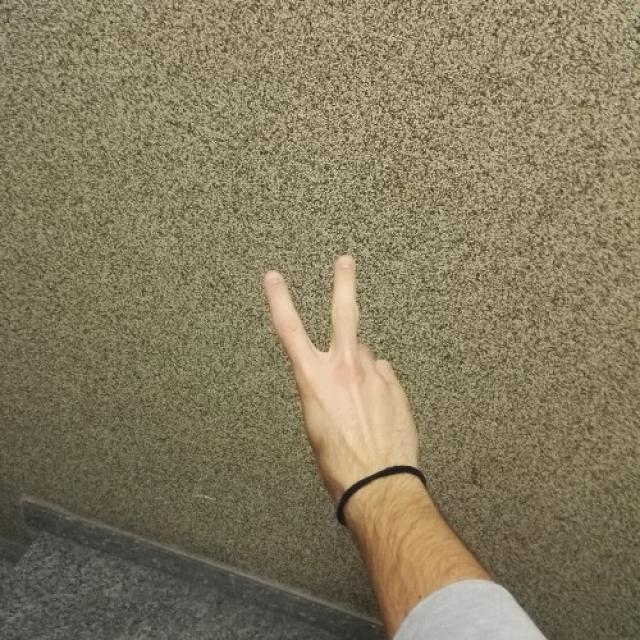scissors: (262, 256, 420, 465)
